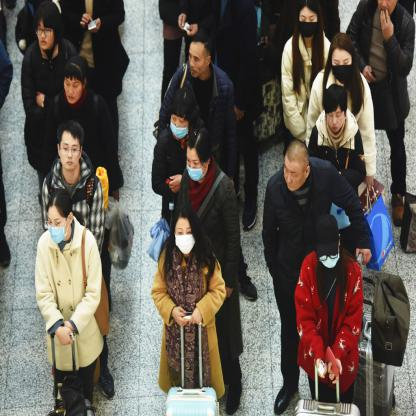Not_Wearing_Mask: (59, 138, 80, 171), (282, 162, 302, 192), (63, 75, 83, 103), (37, 22, 53, 50), (188, 48, 204, 76), (326, 109, 344, 131)
Wearing_Mask: (174, 223, 196, 256), (46, 213, 67, 243), (330, 54, 352, 82), (168, 112, 188, 140), (185, 153, 204, 180), (298, 12, 317, 38), (319, 250, 340, 269)
